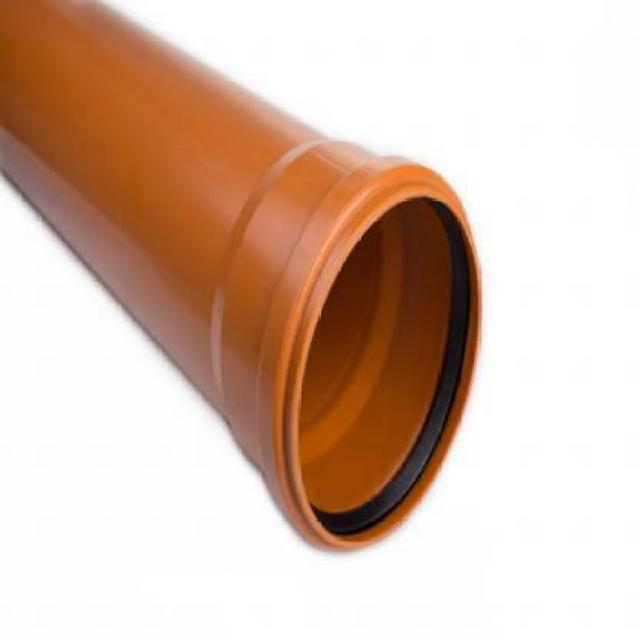pipe: (278, 165, 483, 550)
